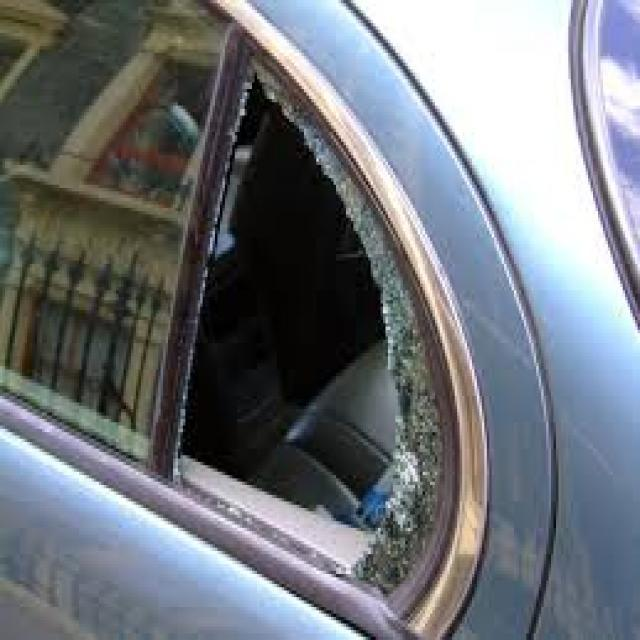damaged-window: (176, 54, 449, 629)
